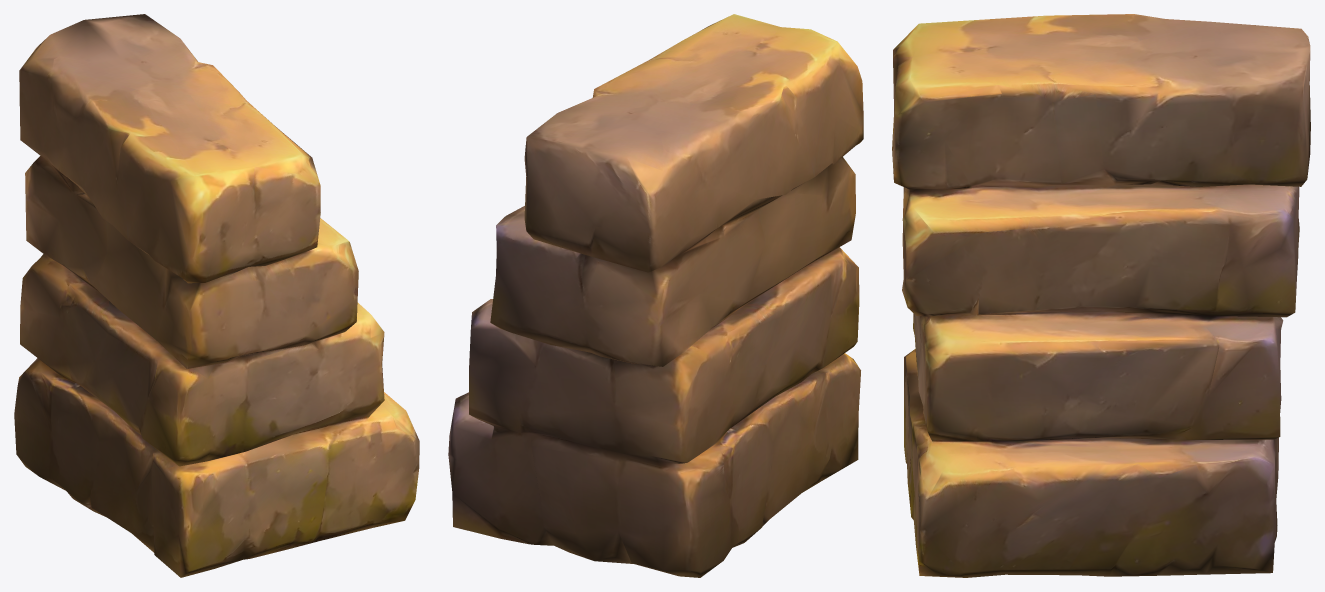
The model's file is model-prop-lock-coping-stack-01.glb.
3 views of the same model, side by side, from view 1: azimuth 30°, elevation 25°; view 2: azimuth 150°, elevation 25°; view 3: azimuth 270°, elevation 25° (orthographic). The views are drawn at different scales.
Parts seen in each view (by area): view 1: tripo_node_37637297-0d63-44a1-aa26-56dd07d5cdb1; view 2: tripo_node_37637297-0d63-44a1-aa26-56dd07d5cdb1; view 3: tripo_node_37637297-0d63-44a1-aa26-56dd07d5cdb1.
Boxes of the visible parts, <box> form: tripo_node_37637297-0d63-44a1-aa26-56dd07d5cdb1: <box>14,14,419,577</box>; tripo_node_37637297-0d63-44a1-aa26-56dd07d5cdb1: <box>448,14,863,577</box>; tripo_node_37637297-0d63-44a1-aa26-56dd07d5cdb1: <box>892,14,1310,577</box>.
Size of the model in its own units: 0.3263 by 0.5 by 0.4183.
Materials: 1 (1 with a texture image).
